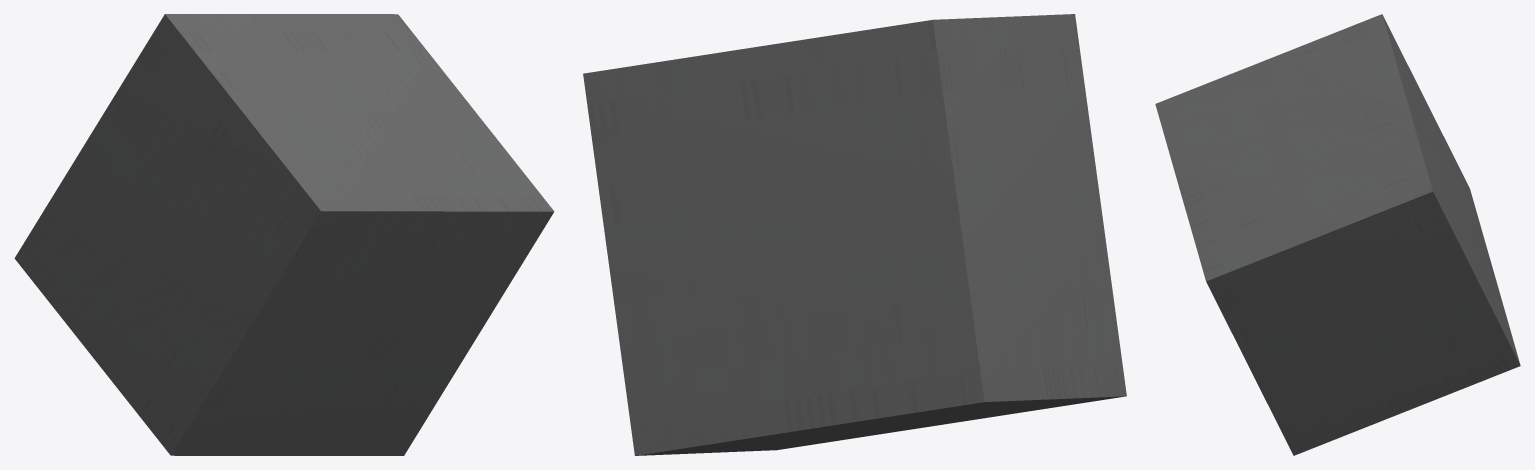
The model's file is prop_paper_ball-0.glb.
3 views of the same model, side by side, from view 1: azimuth 30°, elevation 25°; view 2: azimuth 150°, elevation 25°; view 3: azimuth 270°, elevation 25° (orthographic). The views are drawn at different scales.
Parts seen in each view (by area): view 1: prop_paper_ball-0; view 2: prop_paper_ball-0; view 3: prop_paper_ball-0.
Boxes of the visible parts, x1=… form: prop_paper_ball-0: x1=14, y1=14, x2=554, y2=455; prop_paper_ball-0: x1=583, y1=14, x2=1126, y2=455; prop_paper_ball-0: x1=1155, y1=14, x2=1520, y2=455.
Size of the model in its own units: 0.0807 by 0.091 by 0.0819.
Materials: 1 (1 with a texture image).
